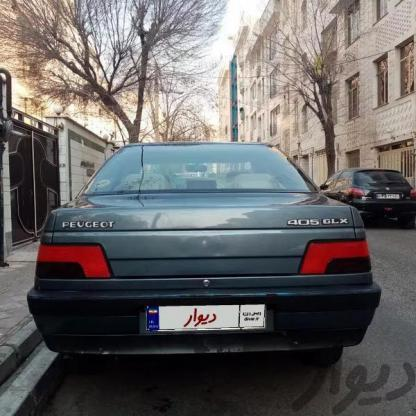Car: (28, 134, 379, 376), (309, 161, 416, 229)
